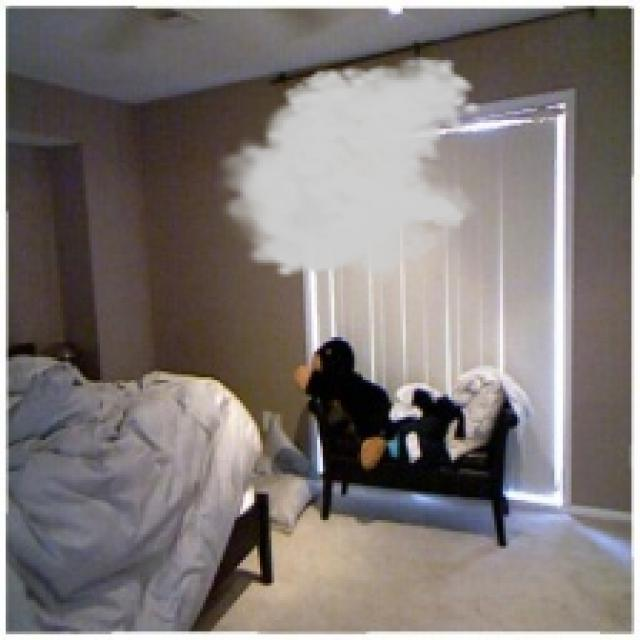smoke: (211, 55, 483, 292)
